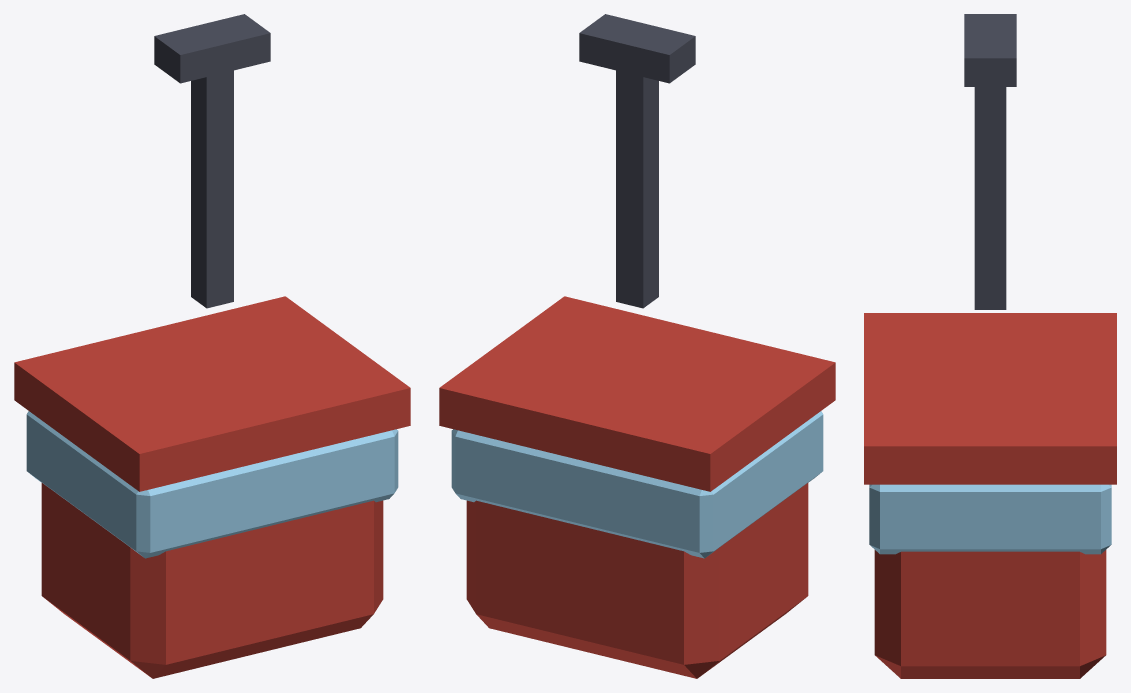
File: sky-ride.cabin-0.glb
3 views of the same model, side by side, from view 1: azimuth 30°, elevation 25°; view 2: azimuth 150°, elevation 25°; view 3: azimuth 270°, elevation 25° (orthographic).
Parts seen in each view (by area): view 1: model; view 2: model; view 3: model.
Boxes of the visible parts, box(x1,y1,x2,y2) form: model: box(14, 14, 410, 678); model: box(439, 14, 835, 678); model: box(864, 14, 1116, 678).
Size of the model in its own units: 0.3 by 0.62 by 0.24.
1 material, 1 textured.
